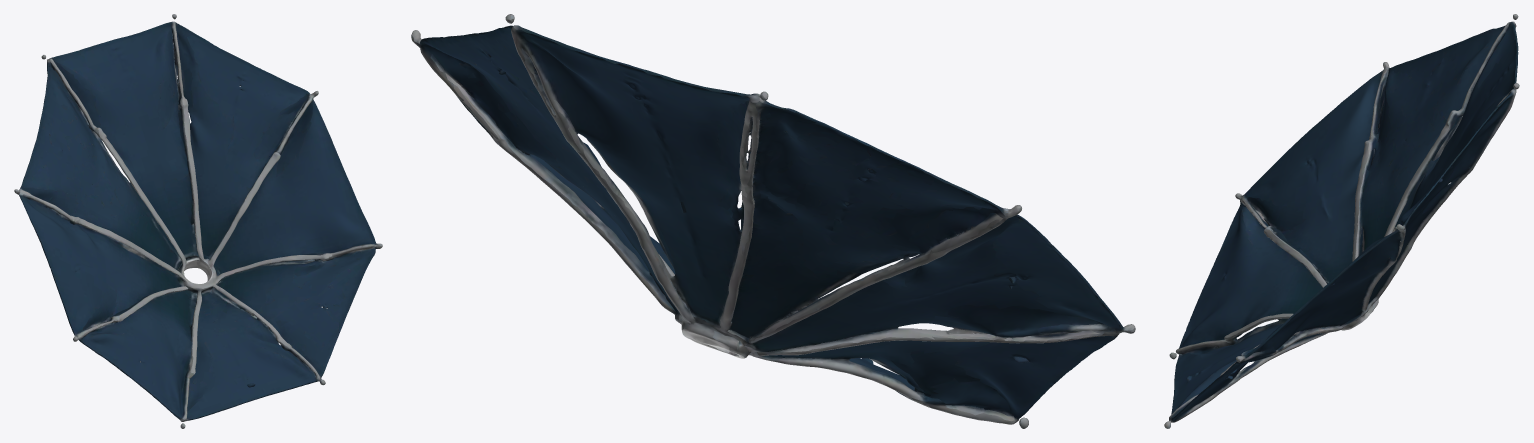
The picture shows the model from 3 angles, left to right: view 1: azimuth 30°, elevation 25°; view 2: azimuth 150°, elevation 25°; view 3: azimuth 270°, elevation 25°; orthographic projection. The views are drawn at different scales.
Parts seen in each view (by area): view 1: geometry_0; view 2: geometry_0; view 3: geometry_0.
Part boxes in pixels (box(x1,y1,x2,y2)): geometry_0: box(14, 14, 382, 428); geometry_0: box(411, 14, 1135, 428); geometry_0: box(1164, 14, 1519, 428).
Bounding box in the file's own units: 1 × 0.8751 × 0.795.
Materials: 1 (1 with a texture image).
